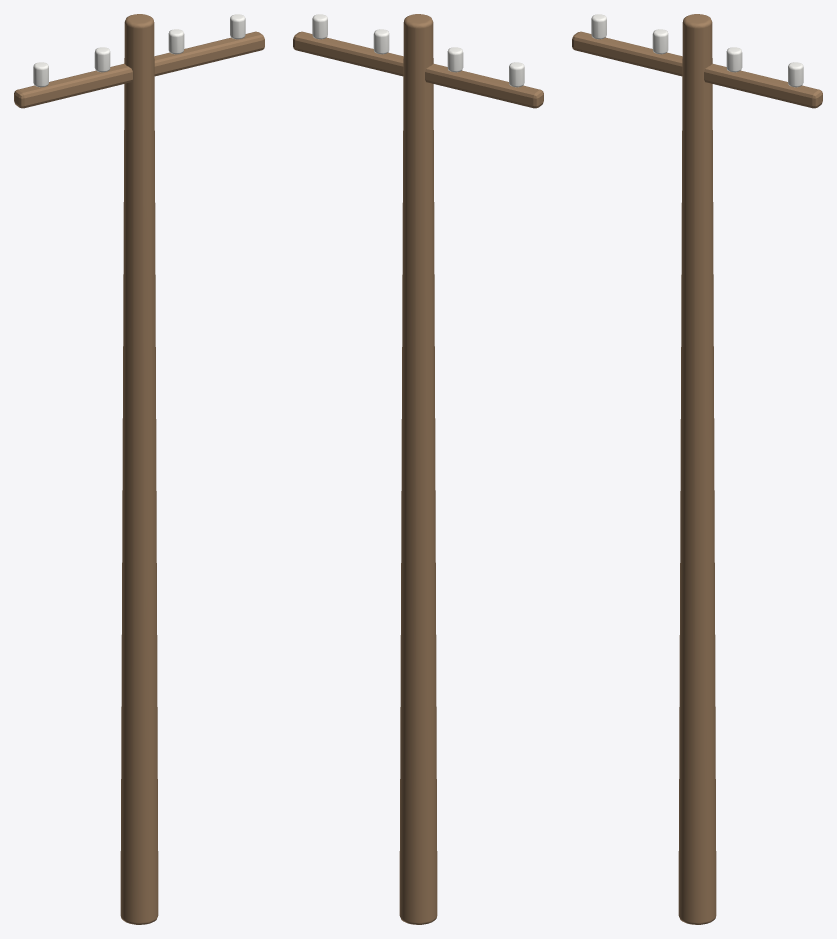
The model's file is telegraph_pole.fbx.
The picture shows the model from 3 angles, left to right: view 1: azimuth 30°, elevation 25°; view 2: azimuth 150°, elevation 25°; view 3: azimuth 330°, elevation 25°; orthographic projection.
Parts seen in each view (by area): view 1: Visual; view 2: Visual; view 3: Visual.
Part boxes in pixels (x1=…): Visual: x1=14, y1=14, x2=264, y2=924; Visual: x1=293, y1=14, x2=543, y2=924; Visual: x1=572, y1=14, x2=822, y2=924.
Size of what is drawn, in the model's own units: 200 by 700 by 26.89.
